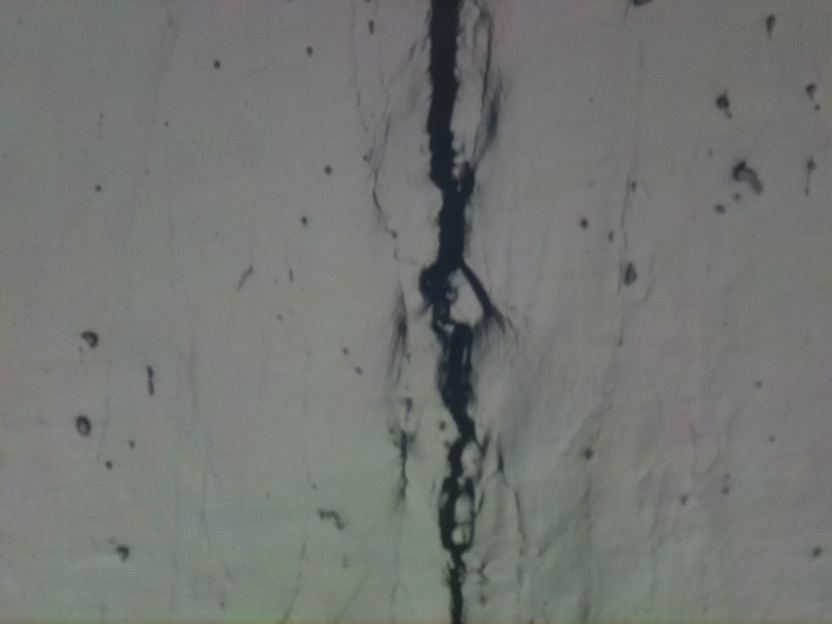crack: (418, 0, 483, 623)
